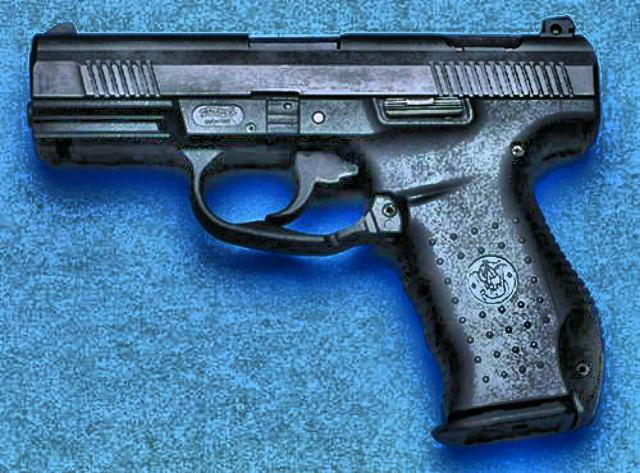pistol: (29, 18, 606, 444)
